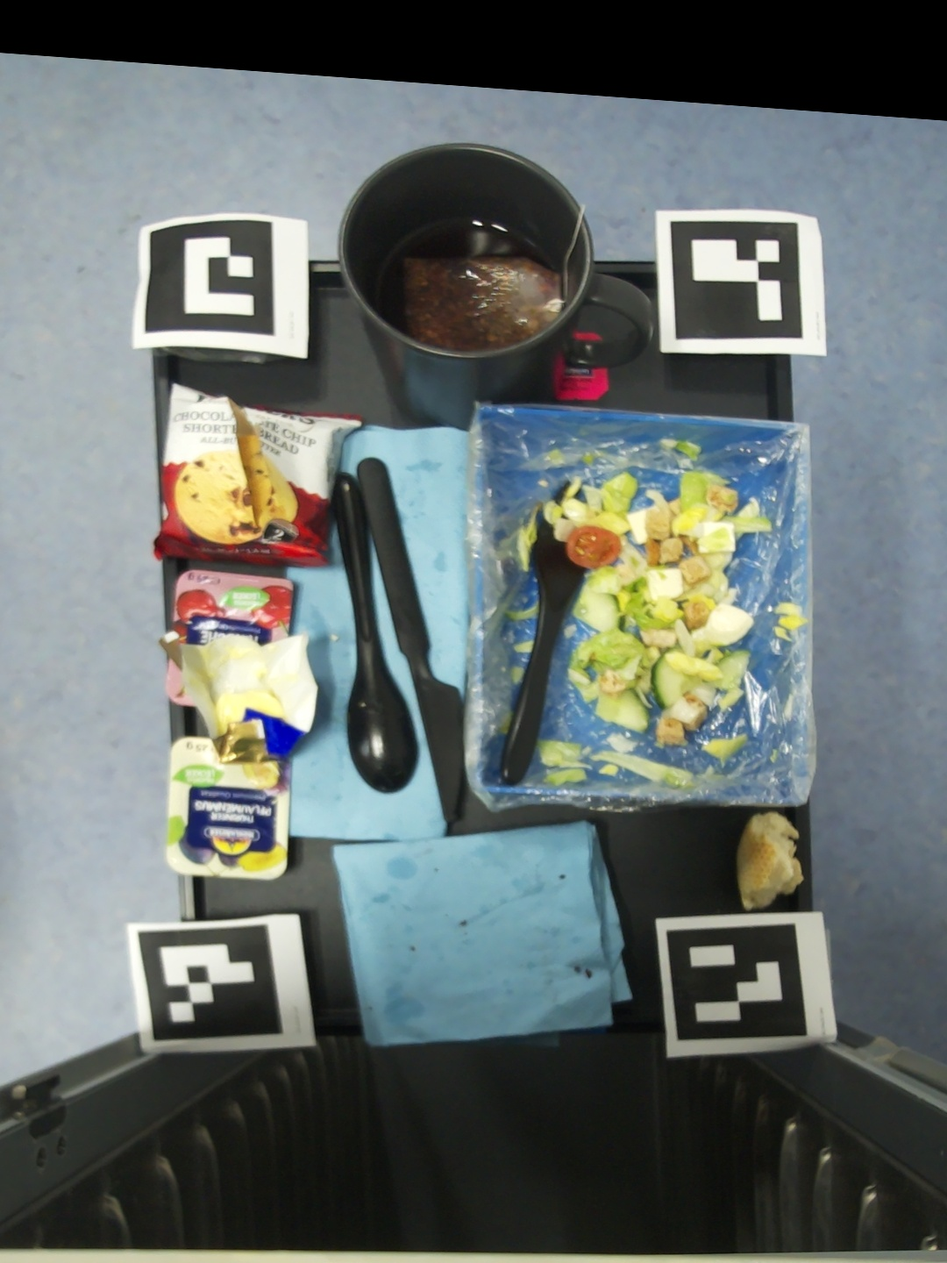bread_roll: (736, 811, 805, 910)
butter: (159, 629, 318, 764)
cherry_jam: (170, 569, 294, 644), (165, 652, 195, 706)
cookie: (152, 381, 362, 566)
plum_jam: (166, 736, 290, 881)
salad_main: (516, 471, 772, 749), (590, 732, 695, 788), (537, 738, 592, 769), (703, 732, 748, 761), (775, 602, 809, 630), (662, 439, 705, 457), (546, 769, 587, 786), (505, 602, 539, 621), (499, 711, 513, 735), (699, 765, 722, 778), (775, 626, 793, 641), (545, 450, 564, 464), (514, 640, 534, 653), (512, 666, 525, 682), (582, 745, 592, 756), (769, 750, 776, 763), (585, 456, 595, 465), (537, 479, 548, 486)
tea_cup: (338, 143, 654, 427)
